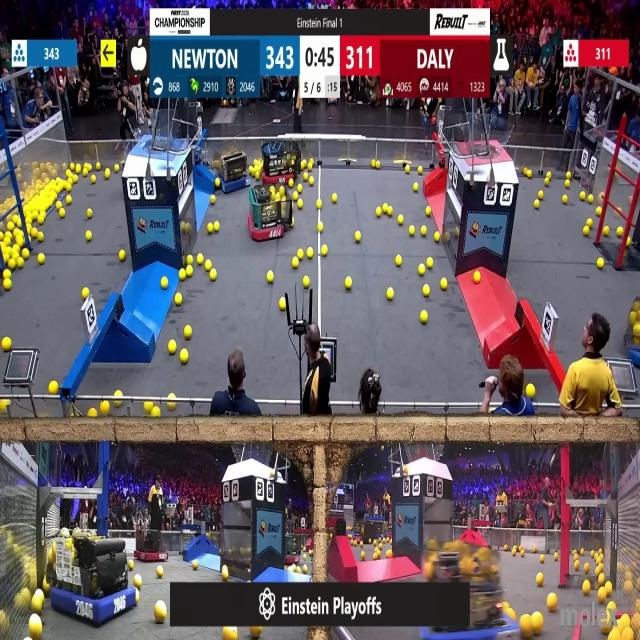ball_airborne: (224, 628, 236, 640)
ball_ground: (28, 617, 40, 640), (531, 615, 543, 637), (32, 592, 44, 613), (157, 602, 168, 622), (522, 617, 532, 637), (549, 594, 558, 612), (214, 181, 224, 195), (598, 588, 606, 604), (169, 341, 178, 355), (2, 338, 11, 352), (101, 401, 110, 415), (425, 565, 434, 579), (526, 385, 535, 398), (584, 582, 592, 596), (180, 350, 188, 364), (48, 382, 57, 394), (221, 566, 228, 580), (420, 312, 428, 324), (134, 575, 142, 587), (144, 400, 152, 412), (387, 287, 394, 300), (184, 325, 191, 338), (536, 572, 543, 585), (174, 293, 182, 304), (268, 272, 275, 284), (419, 265, 426, 277), (4, 279, 11, 291), (597, 257, 604, 269), (0, 399, 7, 411), (630, 312, 637, 324), (90, 410, 98, 420), (280, 299, 286, 312), (442, 279, 449, 290), (426, 257, 433, 268), (118, 250, 125, 261), (291, 257, 298, 268), (152, 408, 159, 419), (346, 278, 352, 290), (304, 276, 310, 288), (163, 277, 169, 289), (473, 272, 479, 284), (297, 248, 303, 260), (210, 271, 217, 281), (186, 254, 193, 264), (24, 249, 31, 259), (213, 221, 220, 231), (195, 254, 202, 264), (16, 260, 23, 270), (37, 233, 44, 243), (205, 262, 212, 272), (607, 601, 614, 611), (598, 574, 605, 584), (8, 261, 15, 271), (308, 248, 314, 259), (355, 232, 361, 243), (82, 287, 88, 298), (396, 255, 402, 266), (423, 285, 429, 296), (38, 253, 44, 264), (180, 270, 186, 281), (186, 267, 192, 278), (38, 212, 44, 223), (169, 401, 176, 410), (317, 222, 324, 231), (322, 246, 328, 256), (434, 233, 440, 243), (603, 226, 609, 236), (87, 232, 93, 242), (191, 560, 197, 570), (410, 225, 416, 235), (397, 215, 403, 225), (208, 222, 214, 232), (618, 228, 624, 238), (159, 567, 165, 577), (4, 270, 10, 280), (585, 563, 591, 573), (32, 230, 38, 240), (596, 207, 602, 216), (584, 226, 590, 235), (387, 551, 393, 560), (573, 561, 579, 570), (75, 166, 81, 175), (66, 182, 72, 191), (288, 179, 294, 188), (299, 162, 305, 171), (7, 222, 13, 231), (596, 565, 602, 574), (297, 200, 302, 210), (421, 225, 426, 235), (115, 390, 122, 397), (579, 191, 585, 199), (316, 201, 322, 209), (418, 167, 424, 175), (587, 218, 593, 226), (406, 165, 412, 173), (566, 172, 572, 180), (413, 183, 419, 191), (292, 191, 298, 199), (66, 170, 72, 178), (82, 168, 88, 176), (254, 172, 260, 180), (61, 209, 66, 218), (331, 192, 336, 201), (88, 209, 93, 218), (377, 208, 382, 217), (211, 194, 216, 203), (589, 193, 594, 202), (555, 553, 560, 562), (105, 170, 110, 179), (370, 161, 375, 170), (169, 392, 175, 399), (545, 172, 551, 179), (115, 399, 121, 406), (388, 208, 393, 216), (92, 175, 97, 183), (563, 194, 568, 202), (67, 197, 72, 205), (534, 201, 539, 209), (304, 566, 309, 574), (565, 182, 570, 190), (527, 170, 532, 178), (360, 553, 365, 561), (73, 175, 78, 183), (376, 162, 381, 170), (130, 561, 135, 569), (136, 593, 140, 603), (426, 207, 430, 216), (540, 555, 544, 564), (0, 233, 4, 242), (371, 555, 377, 561), (114, 166, 119, 173), (627, 239, 632, 246), (295, 566, 300, 573), (532, 545, 537, 552), (503, 543, 508, 550), (538, 190, 542, 198), (544, 178, 548, 186), (298, 184, 302, 192), (97, 164, 101, 172), (524, 168, 528, 176), (58, 202, 62, 210), (290, 564, 294, 572), (308, 180, 312, 187), (307, 162, 311, 169), (580, 550, 584, 557), (514, 550, 518, 557), (521, 552, 525, 559)
goal: (460, 118, 516, 158), (128, 116, 186, 152)
robot_blue: (423, 550, 521, 640), (46, 536, 133, 625), (213, 143, 250, 196), (624, 295, 640, 368)
robot_red: (250, 185, 296, 241), (261, 137, 305, 185), (134, 530, 168, 563), (284, 536, 302, 565)
